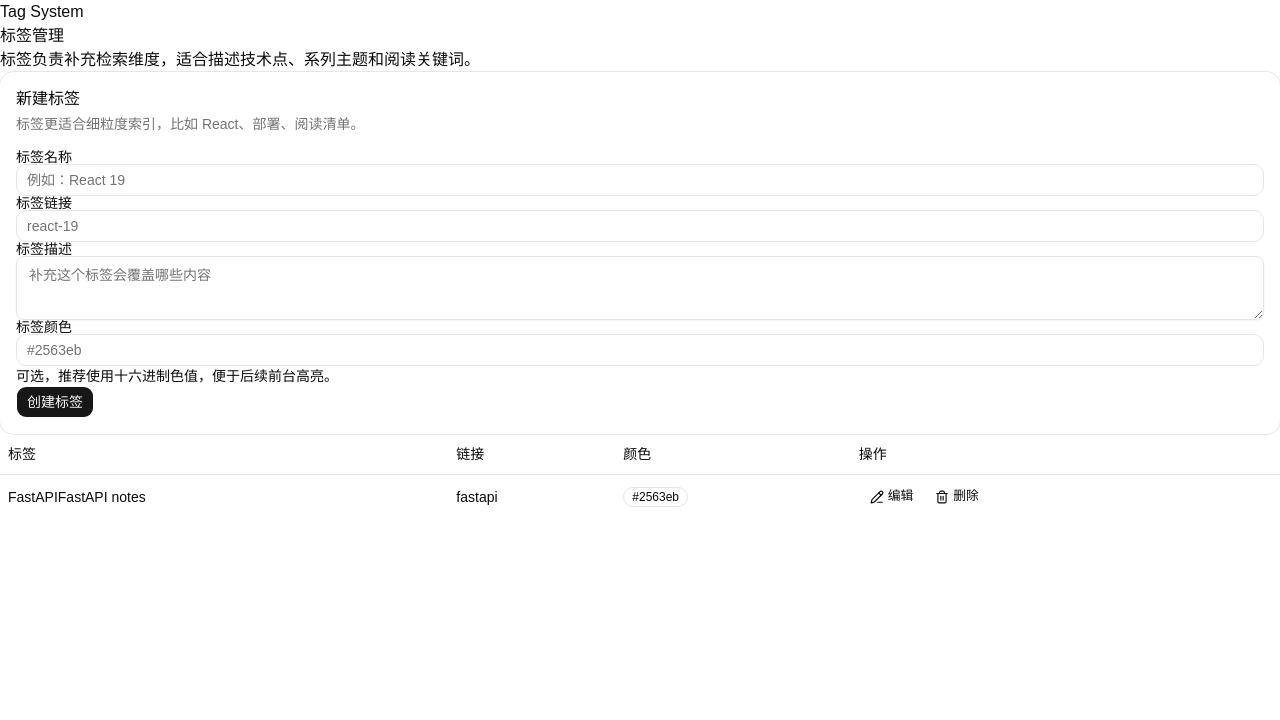
Test: TagPage › deletes a tag after confirmation
expect the text "FastAPI" is shown: met, box [8,488,58,504]
Click the button "删除": (957, 496) [924,482,990,510]
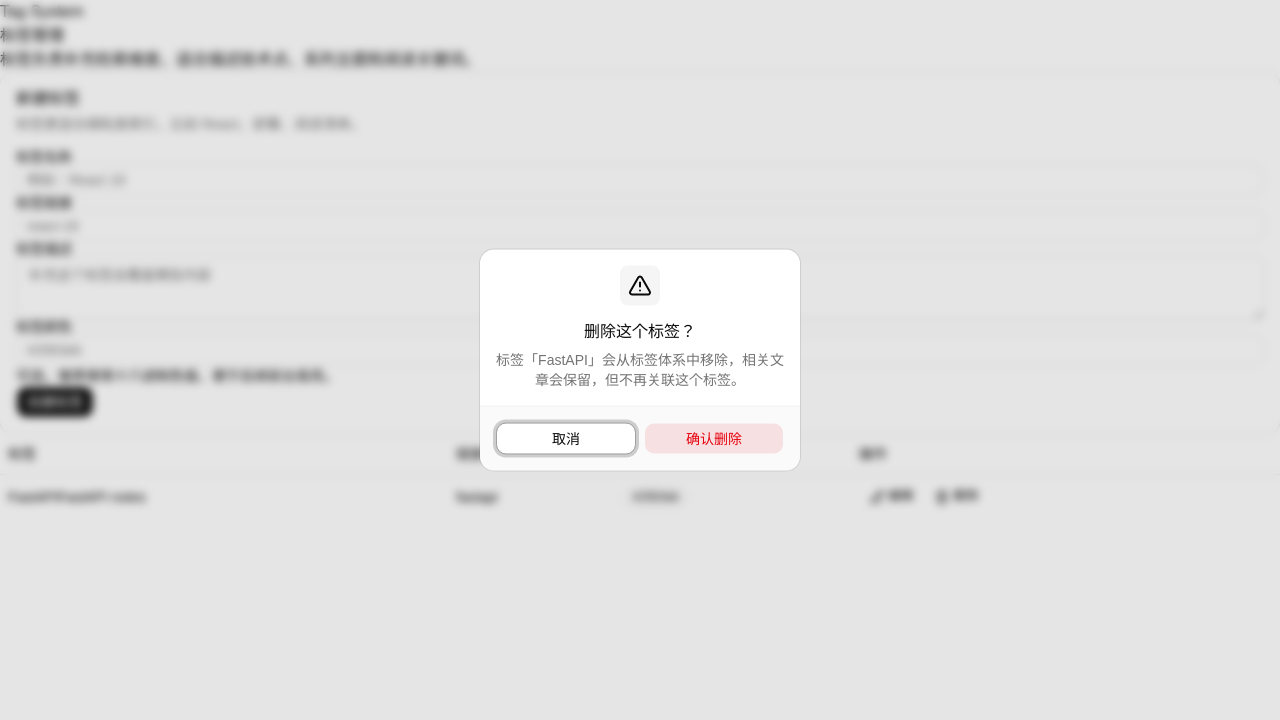
Click the button "确认删除": (714, 438) [644,422,784,454]
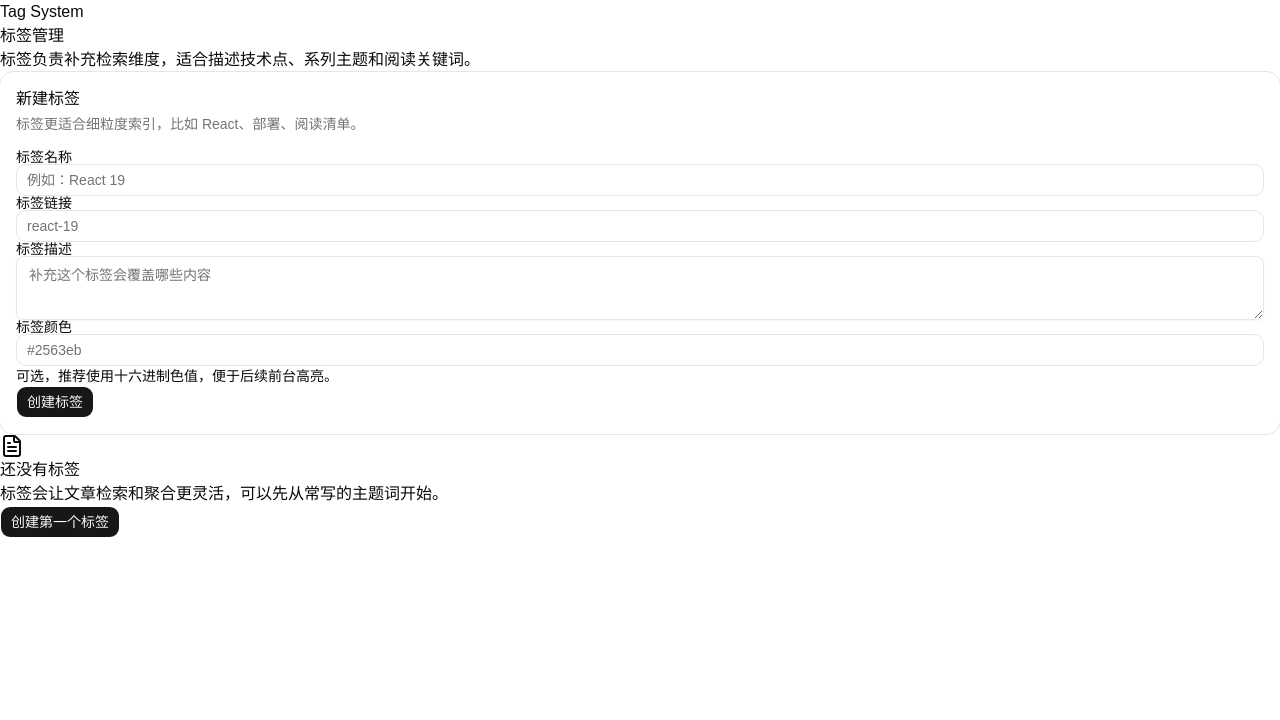
expect the text "FastAPI" is gone: met
